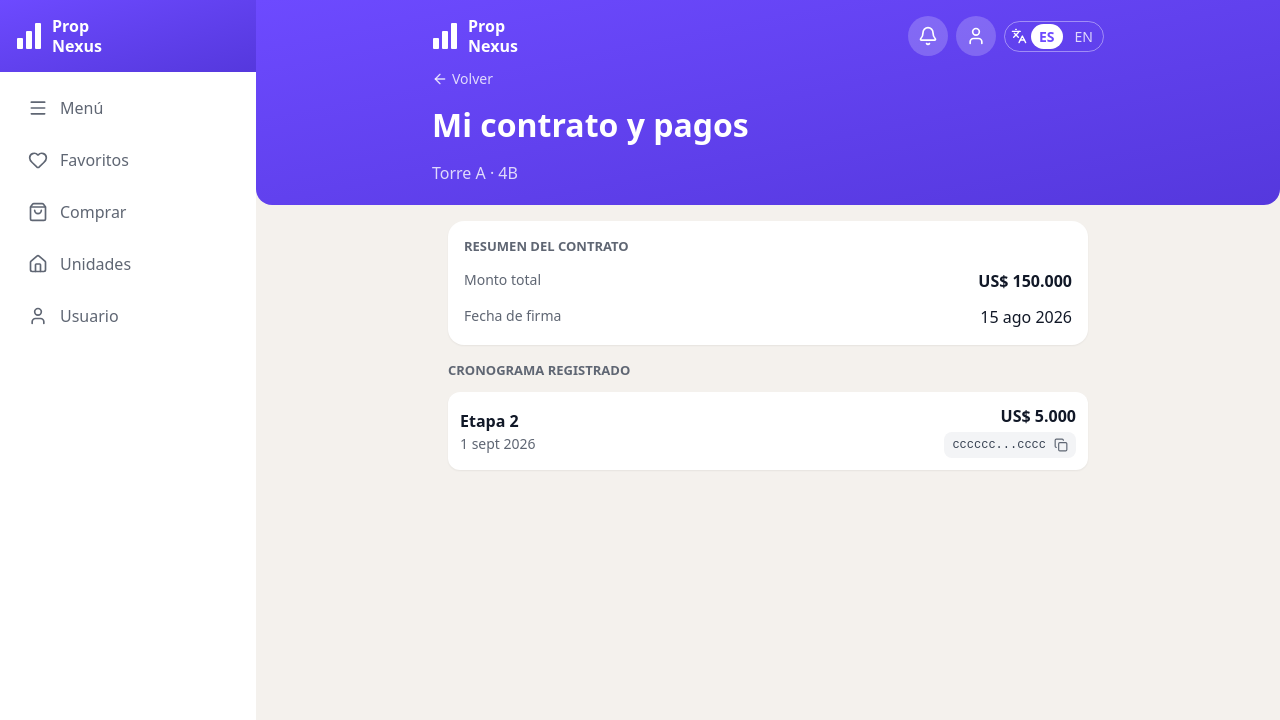
/investor/unit/$unitId/contract › el modal del TXID se cierra con Escape
The image size is (1280, 720).
Click the button "cccccc...cccc" at (999, 445), box [952,436,1046,454]
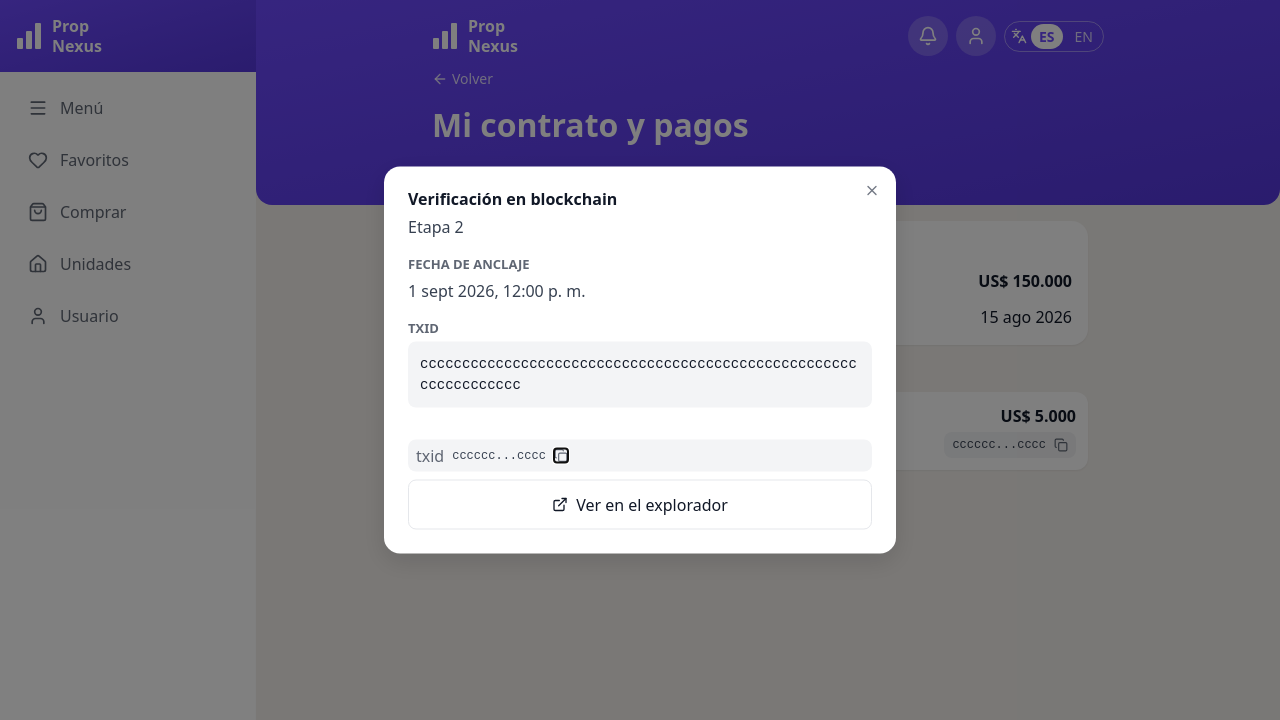
expect the dialog with test id "INV-TXID-MODAL-001" is shown: met, box [384,166,896,554]
Press Escape in the button named "Copiar", box [554,448,568,462]
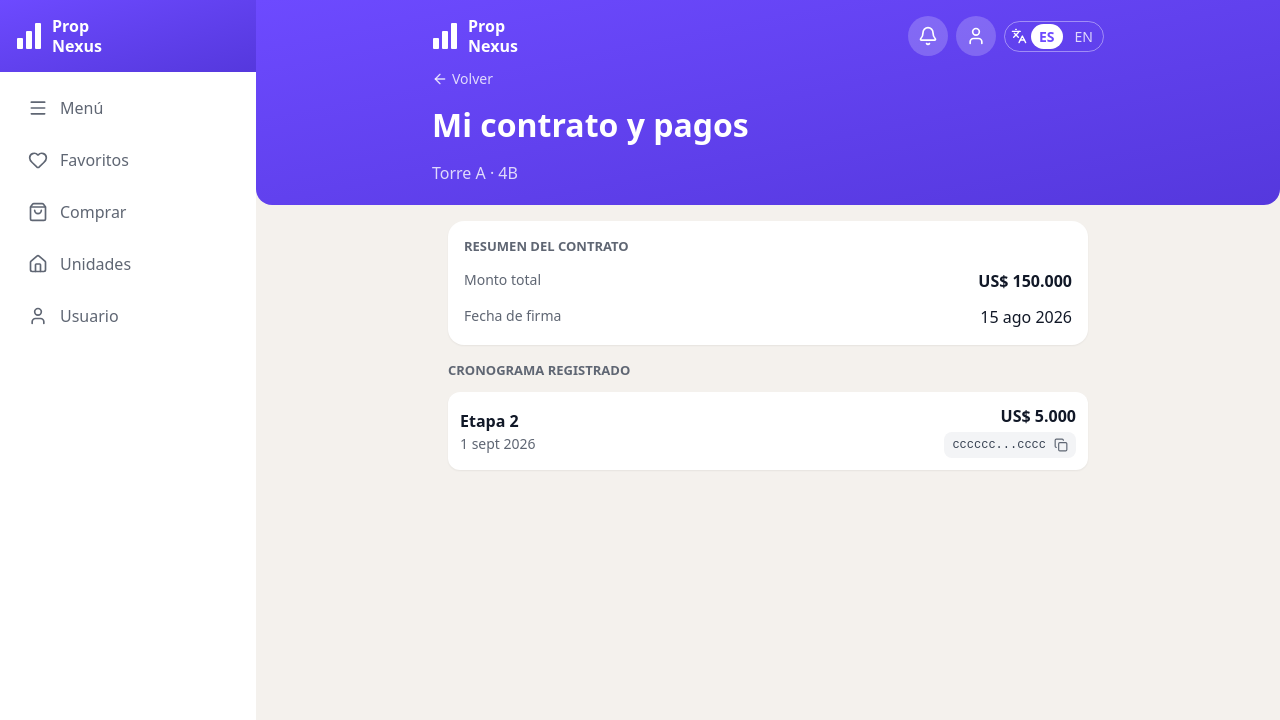
expect the dialog with test id "INV-TXID-MODAL-001" is gone: met
